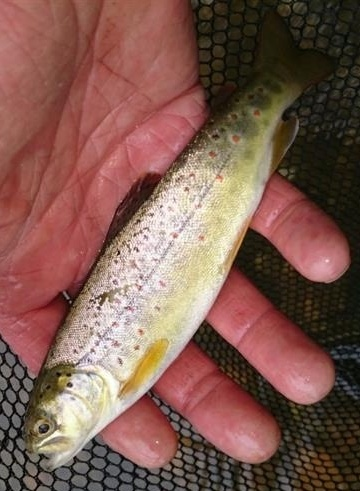Salmo trutta subsp. fario: (20, 1, 340, 471)
